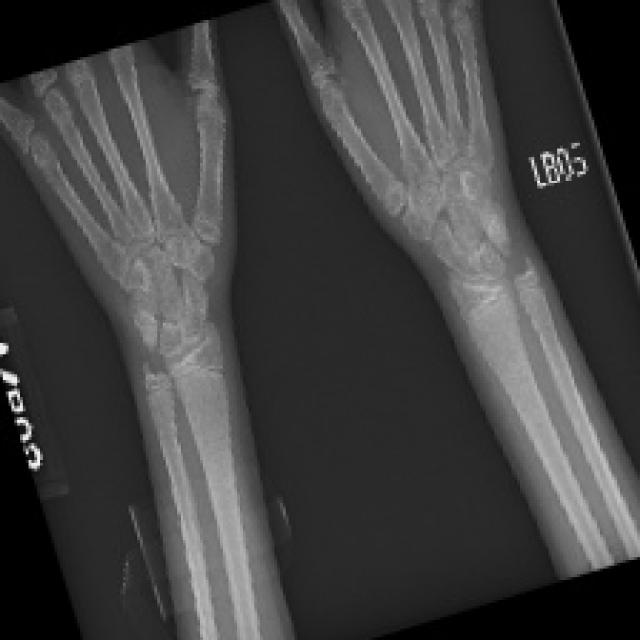fracture: (96, 321, 206, 416), (477, 217, 562, 320)
